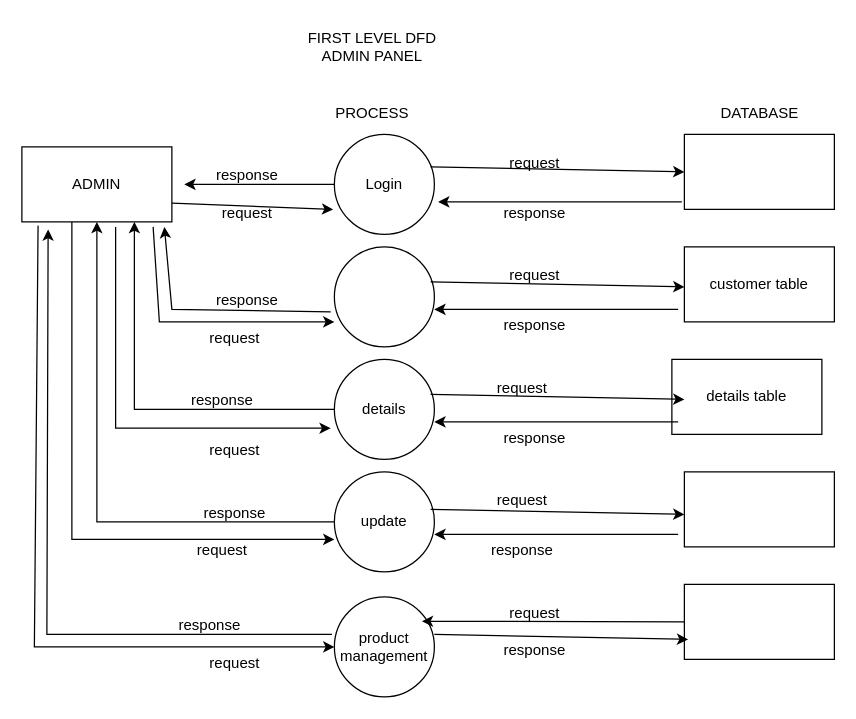
Image size: 856x719. Some labels were removed from this diagram. Each missing label, with the centre of its shape:
"add customers" belongs at [383,296].
"credentials" belongs at [758,171].
"product tabe" belongs at [758,621].
"product table" belongs at [758,509].
